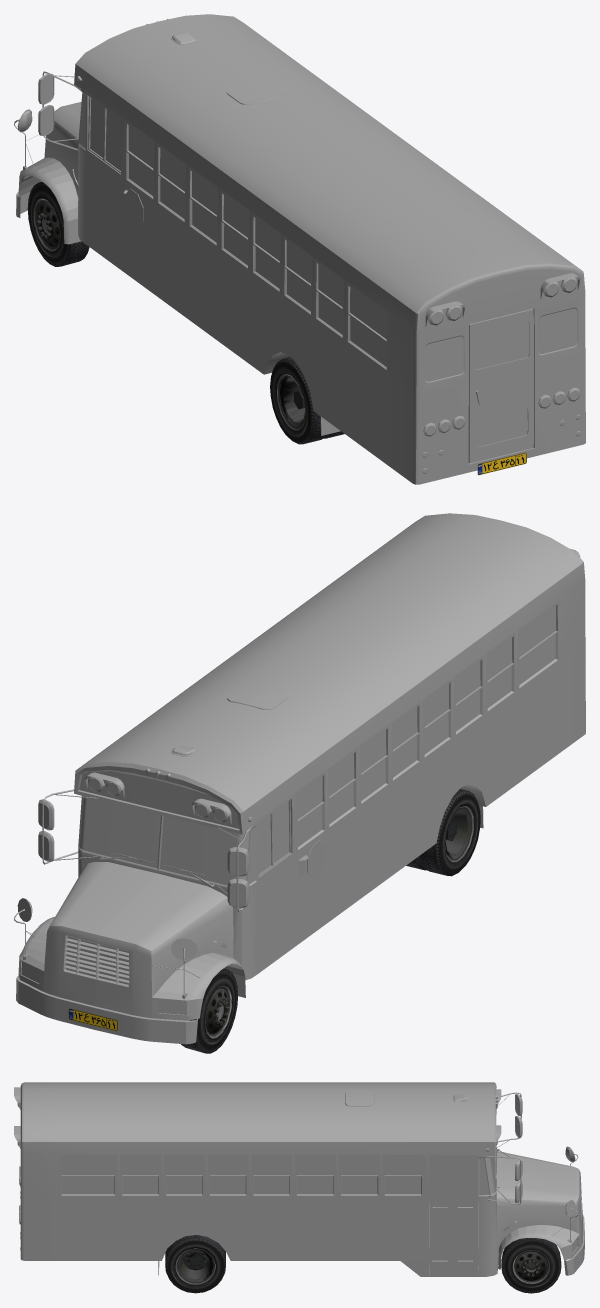
File: School Bus.fbx
3 views of the same model, one above another, from view 1: azimuth 30°, elevation 25°; view 2: azimuth 150°, elevation 25°; view 3: azimuth 270°, elevation 25° (orthographic). The views are drawn at different scales.
Parts seen in each view (by area): view 1: Main_Body, Glass, Other_Body, FB, FL, Lights, OtherPNG; view 2: Main_Body, Glass, Other_Body, FB, FL, Lights; view 3: Main_Body, Glass, Other_Body, FB, FR.
Boxes of the visible parts, x1,y1,x2,y2 form: Main_Body: (18,14,585,484); Glass: (19,75,576,446); Other_Body: (14,24,580,463); FB: (270,357,344,444); FL: (27,182,89,266); Lights: (76,19,580,473); OtherPNG: (477,452,526,475); Main_Body: (18,513,585,1020); Glass: (28,605,555,912); Other_Body: (14,601,558,1044); FB: (406,789,480,876); FL: (181,968,238,1053); Lights: (18,769,252,1015); Main_Body: (14,1082,583,1276); Glass: (61,1095,574,1260); Other_Body: (18,1090,584,1275); FB: (165,1235,225,1293); FR: (501,1238,561,1293).
Size of the model in its own units: 8.38 by 9.32 by 28.45.
